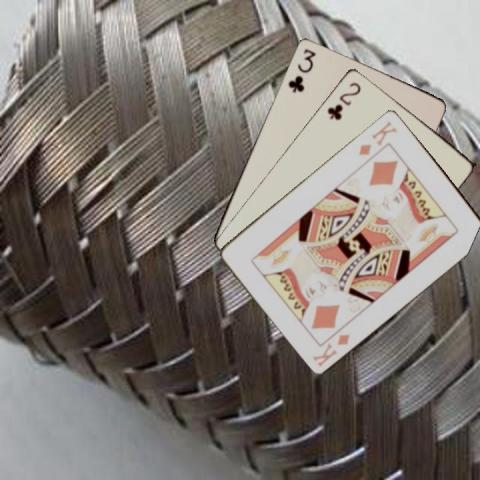2c: (324, 79, 363, 121)
3c: (285, 46, 317, 94)
Kd: (355, 117, 399, 157), (310, 330, 352, 368)
